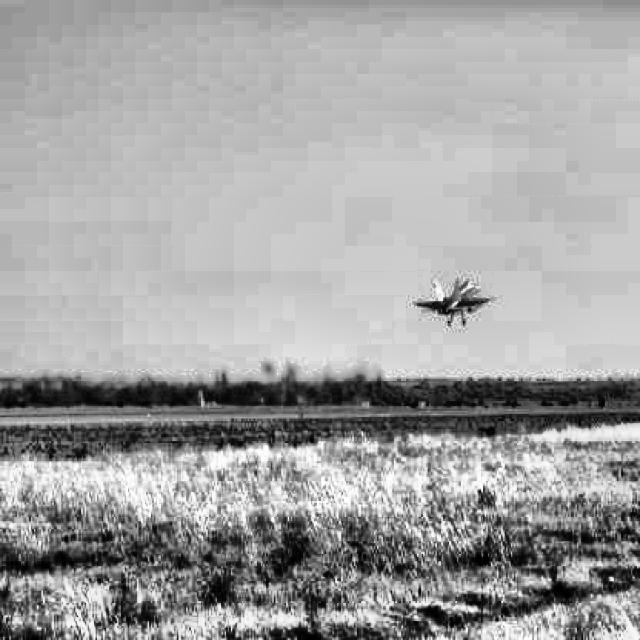F18: (414, 278, 495, 328)
